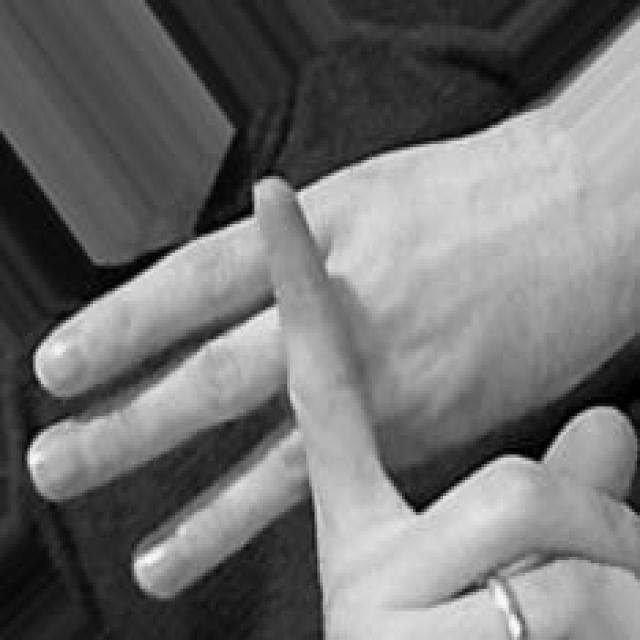E: (19, 164, 640, 640)
